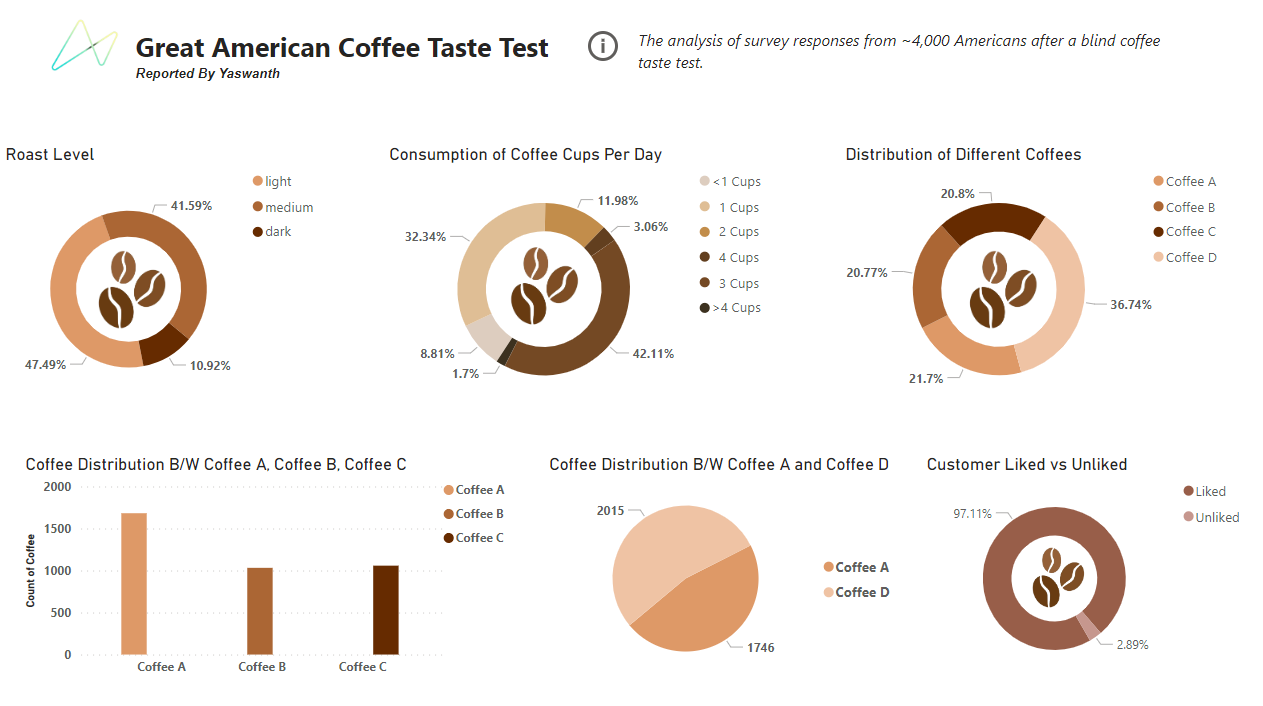

The page's visual inventory and layout, read from the dashboard file:
{"tool":"powerbi","page":{"name":"preferences","canvas":[1280,720],"ordinal":1},"visuals":[{"type":"donutChart","title":"Roast Level","fields":{"Y":["Preferences measures.light","Preferences measures.medium","Preferences measures.dark"]},"box":[7.5,147.5,327.5,272.5],"z":0,"group":"g1"},{"type":"clusteredColumnChart","title":"Coffee Distribution B/W Coffee A, Coffee B, Coffee C","fields":{"Category":["GACTT_RESULTS_ANONYMIZED_v2.Between Coffee A, Coffee B, and Coffee C which did you prefer?"],"Y":["Preferences measures.AoverABC","Preferences measures.BoverABC","Preferences measures.CoverABC"]},"box":[27.5,457.5,498.8,231.2],"z":0},{"type":"group","id":"g1","title":"Group 1","box":[7.5,147.5,327.5,272.5],"z":1000},{"type":"donutChart","title":"Consumption of Coffee Cups Per Day","fields":{"Y":["Preferences measures.less_than_one_coffee","Preferences measures.one_coffee","Preferences measures.three_coffee","Preferences measures.four_coffee","Preferences measures.two_coffee","Preferences measures.more_than_4_coffee"]},"box":[391.2,147.5,391.2,272.5],"z":1000,"group":"g2"},{"type":"group","id":"g2","title":"Group 2","box":[391.2,147.5,391.2,272.5],"z":2000},{"type":"donutChart","title":"Distribution of Different Coffees","fields":{"Y":["Preferences measures.Coffee_A","Preferences measures.Coffee_B","Preferences measures.Coffee_C","Preferences measures.Coffee_D"]},"box":[847.5,147.5,391.2,272.5],"z":2000,"group":"g3"},{"type":"group","id":"g3","title":"Group 3","box":[847.5,147.5,391.2,272.5],"z":3000},{"type":"image","box":[76.3,240.9,125,105.1],"z":3000,"group":"g1"},{"type":"image","box":[488.1,237,125,105.1],"z":4000,"group":"g2"},{"type":"pieChart","title":"Coffee Distribution B/W Coffee A and Coffee D","fields":{"Category":["GACTT_RESULTS_ANONYMIZED_v2.Between Coffee A and Coffee D, which did you prefer?"],"Y":["Preferences measures.AoverAD","Preferences measures.DoverAD"]},"box":[551.2,457.5,360,231.2],"z":4000},{"type":"image","box":[947.5,240.9,125,105.1],"z":5000,"group":"g3"},{"type":"image","box":[1015,540,100,83.8],"z":5000},{"type":"card","title":"Most Popular Coffee","fields":{"Values":["Preferences measures.FavCoffee"]},"box":[7.5,12.5,183.8,97.5],"z":6000},{"type":"shape","box":[7.5,43.8,186.2,66.2],"z":7000},{"type":"donutChart","title":"Customer Liked vs Unliked","fields":{"Y":["GACTT_RESULTS_ANONYMIZED_v2.Customerliked","GACTT_RESULTS_ANONYMIZED_v2.Customerunliked"]},"box":[928.8,457.5,332.5,231.2],"z":8000},{"type":"card","title":"Most Popular Coffee Drink","fields":{"Values":["Preferences measures.Mostlikedcoffeedrink"]},"box":[232.5,12.5,355,97.5],"z":9000},{"type":"shape","box":[232.5,43.8,342.5,66.2],"z":10000},{"type":"card","title":"Most People Spent On  Coffee","fields":{"Values":["Preferences measures.Mostspentamount"]},"box":[605,12.5,355,97.5],"z":11000},{"type":"shape","box":[605,43.8,342.5,66.2],"z":12000},{"type":"card","title":"Strength of Coffee Preferences","fields":{"Values":["Preferences measures.howstrong"]},"box":[990,12.5,248.8,97.5],"z":13000},{"type":"shape","box":[1006.2,43.8,218.8,66.2],"z":14000}]}

Visuals, with their boxes in screenshot pixels (x1, y1, x2, y2), scaled from the page's 1280x720 canvas onto the 1263x706 screenshot:
"Roast Level" donutChart: x1=7 y1=145 x2=331 y2=412
"Coffee Distribution B/W Coffee A, Coffee B, Coffee C" clusteredColumnChart: x1=27 y1=449 x2=519 y2=675
"Group 1" group: x1=7 y1=145 x2=331 y2=412
"Consumption of Coffee Cups Per Day" donutChart: x1=386 y1=145 x2=772 y2=412
"Group 2" group: x1=386 y1=145 x2=772 y2=412
"Distribution of Different Coffees" donutChart: x1=836 y1=145 x2=1222 y2=412
"Group 3" group: x1=836 y1=145 x2=1222 y2=412
image: x1=75 y1=236 x2=199 y2=339
image: x1=482 y1=232 x2=605 y2=335
"Coffee Distribution B/W Coffee A and Coffee D" pieChart: x1=544 y1=449 x2=899 y2=675
image: x1=935 y1=236 x2=1058 y2=339
image: x1=1002 y1=530 x2=1100 y2=612
"Most Popular Coffee" card: x1=7 y1=12 x2=189 y2=108
shape: x1=7 y1=43 x2=191 y2=108
"Customer Liked vs Unliked" donutChart: x1=916 y1=449 x2=1245 y2=675
"Most Popular Coffee Drink" card: x1=229 y1=12 x2=580 y2=108
shape: x1=229 y1=43 x2=567 y2=108
"Most People Spent On  Coffee" card: x1=597 y1=12 x2=947 y2=108
shape: x1=597 y1=43 x2=935 y2=108
"Strength of Coffee Preferences" card: x1=977 y1=12 x2=1222 y2=108
shape: x1=993 y1=43 x2=1209 y2=108
